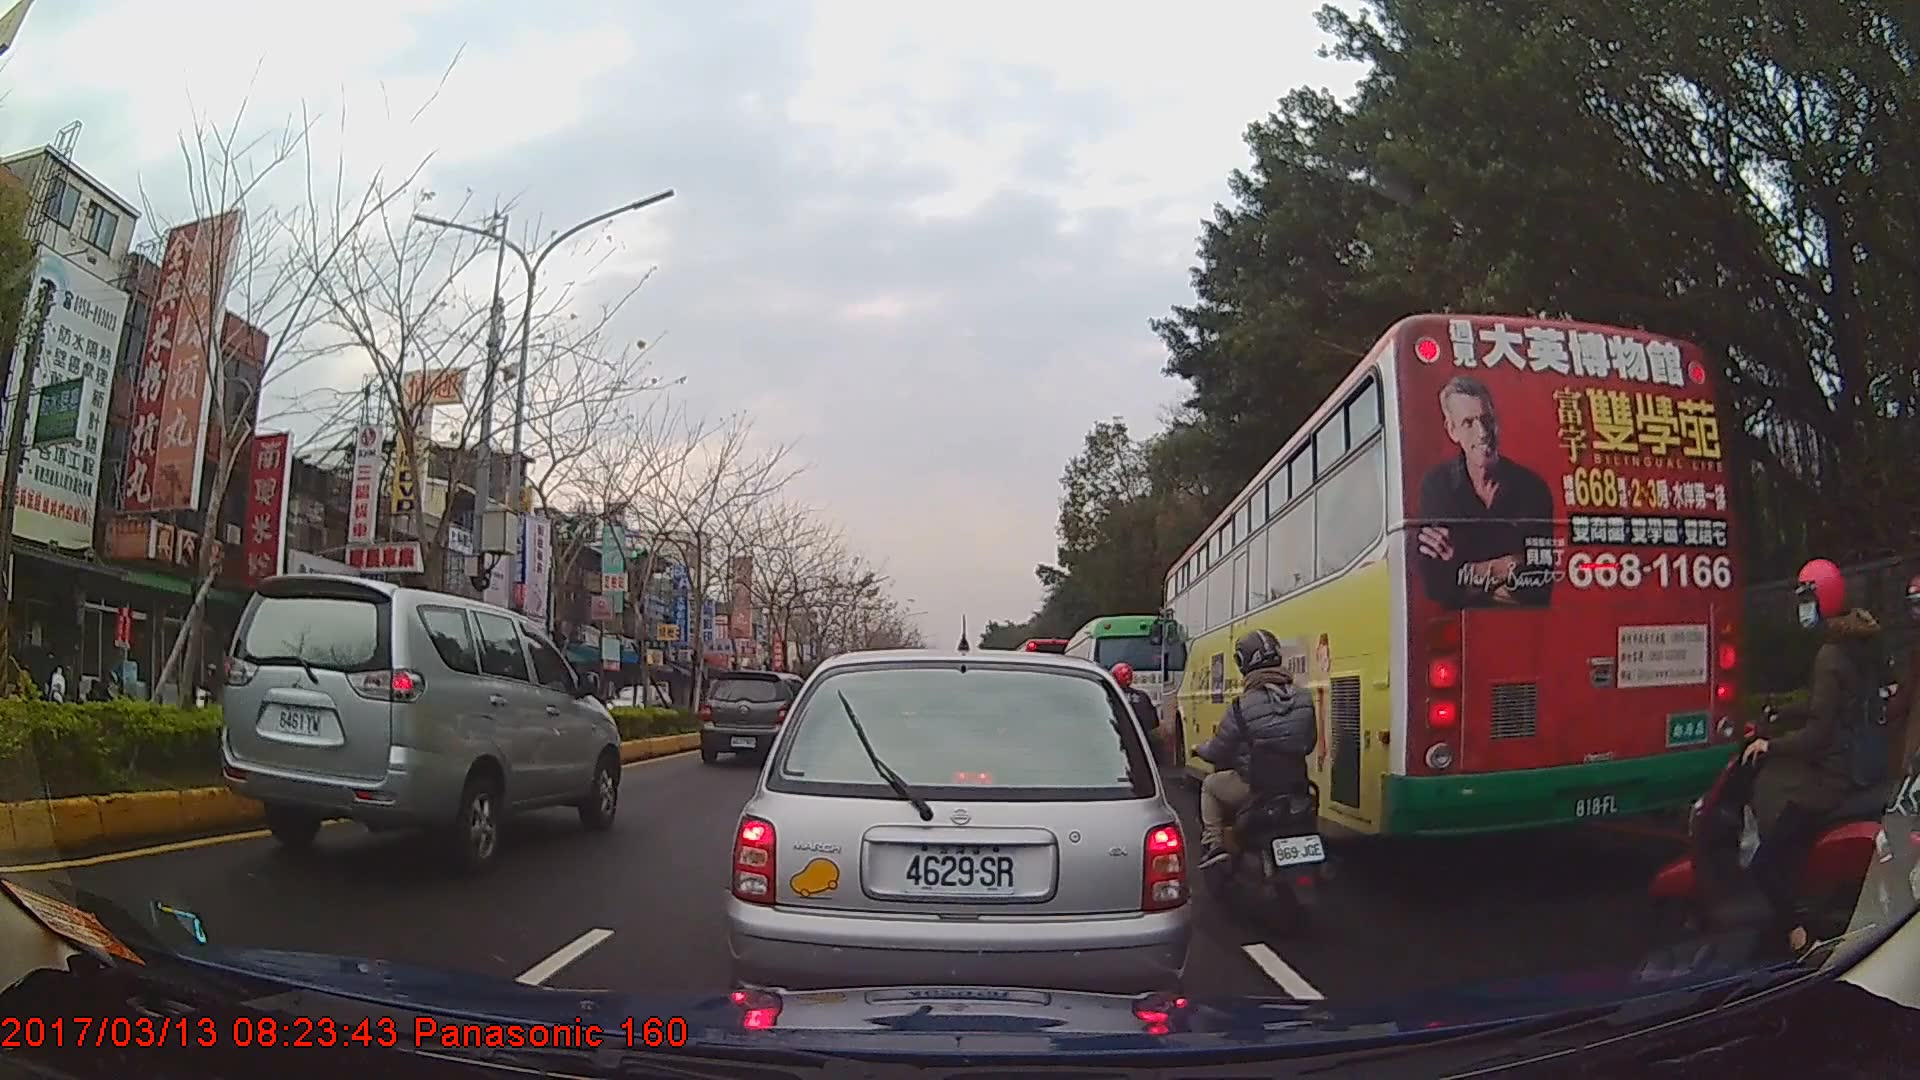rider: (1646, 562, 1907, 975), (1198, 625, 1329, 940), (1835, 572, 1920, 890), (197, 664, 224, 709)
vehicle: (1160, 308, 1744, 849), (728, 645, 1189, 1022), (219, 573, 622, 866), (1063, 613, 1192, 767), (699, 671, 808, 767), (605, 681, 667, 722)
